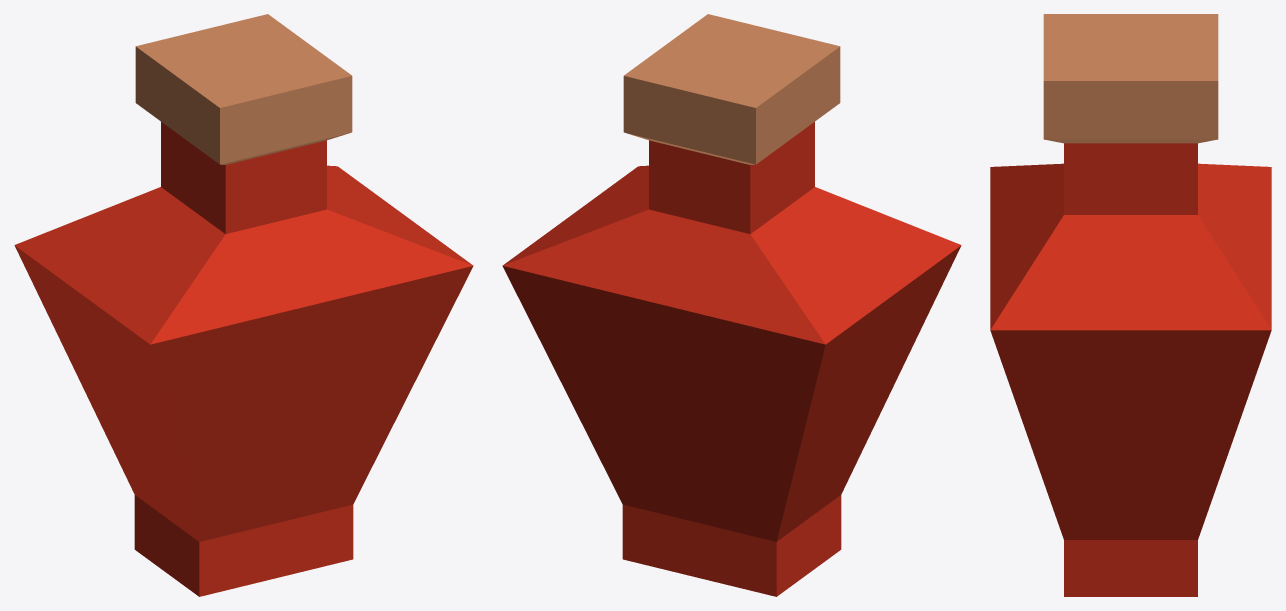
File: Potion.fbx
3 views of the same model, side by side, from view 1: azimuth 30°, elevation 25°; view 2: azimuth 150°, elevation 25°; view 3: azimuth 270°, elevation 25° (orthographic). The views are drawn at different scales.
Parts seen in each view (by area): view 1: SM_Prop_Potion_05; view 2: SM_Prop_Potion_05; view 3: SM_Prop_Potion_05.
Boxes of the visible parts, x1,y1,x2,y2 form: SM_Prop_Potion_05: (14, 14, 473, 596); SM_Prop_Potion_05: (502, 14, 961, 596); SM_Prop_Potion_05: (990, 14, 1271, 596).
Size of the model in its own units: 3.87 by 5.65 by 2.82.
